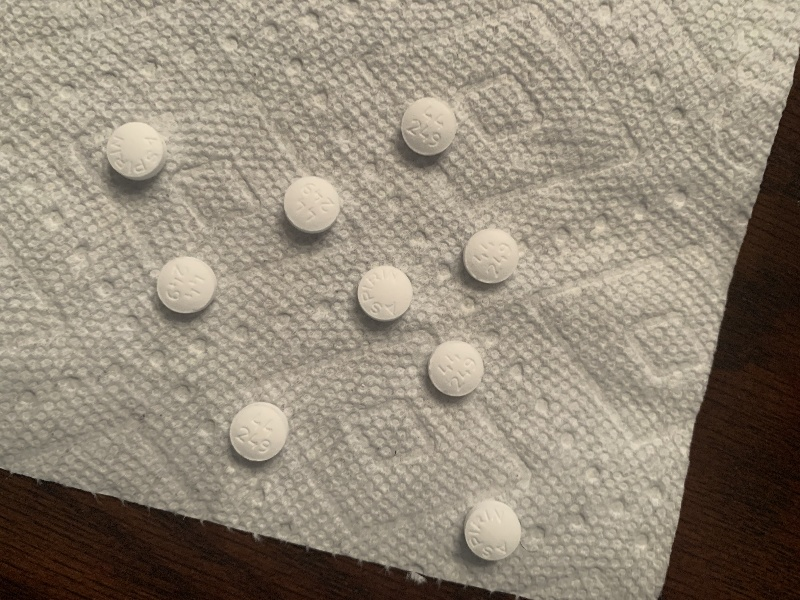Aspirin: (96, 118, 176, 186), (421, 333, 495, 401), (458, 499, 529, 565), (225, 400, 295, 465), (280, 172, 343, 236), (398, 96, 462, 159), (154, 255, 219, 316), (354, 264, 418, 323), (461, 226, 522, 286)
